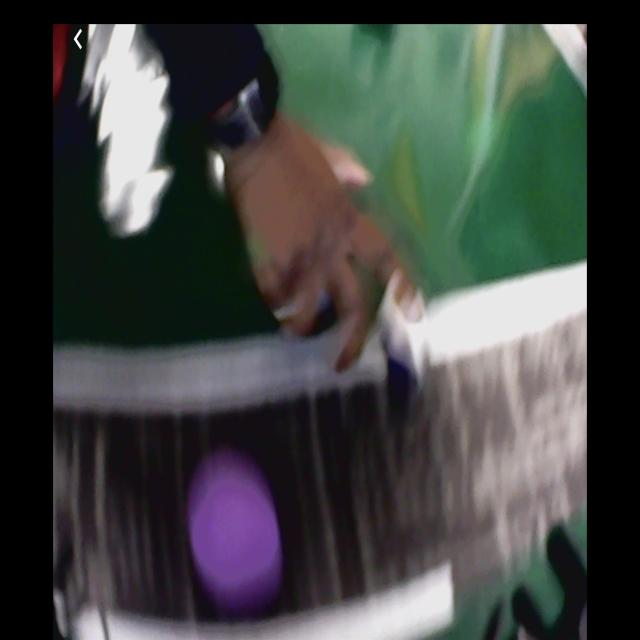ball: (195, 471, 280, 601)
